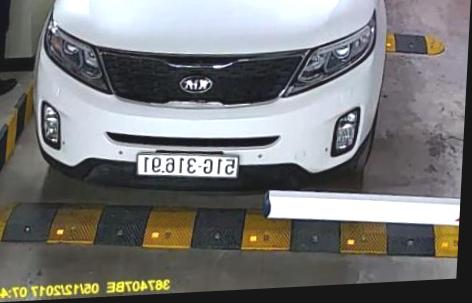License_Plate: (127, 148, 241, 184)
